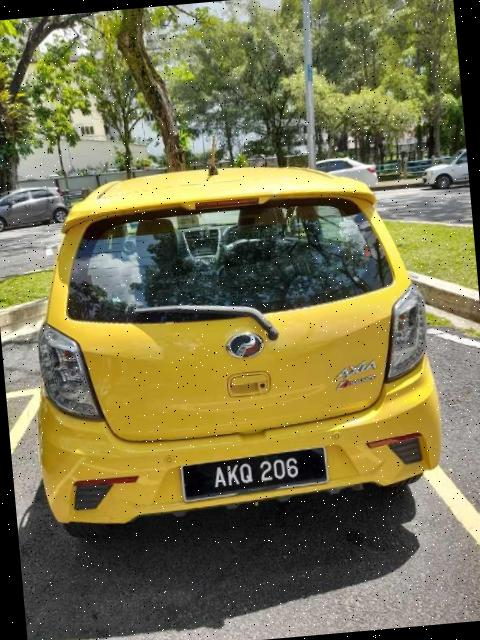License_Plate: (179, 446, 330, 503)
car: (15, 149, 449, 542)
